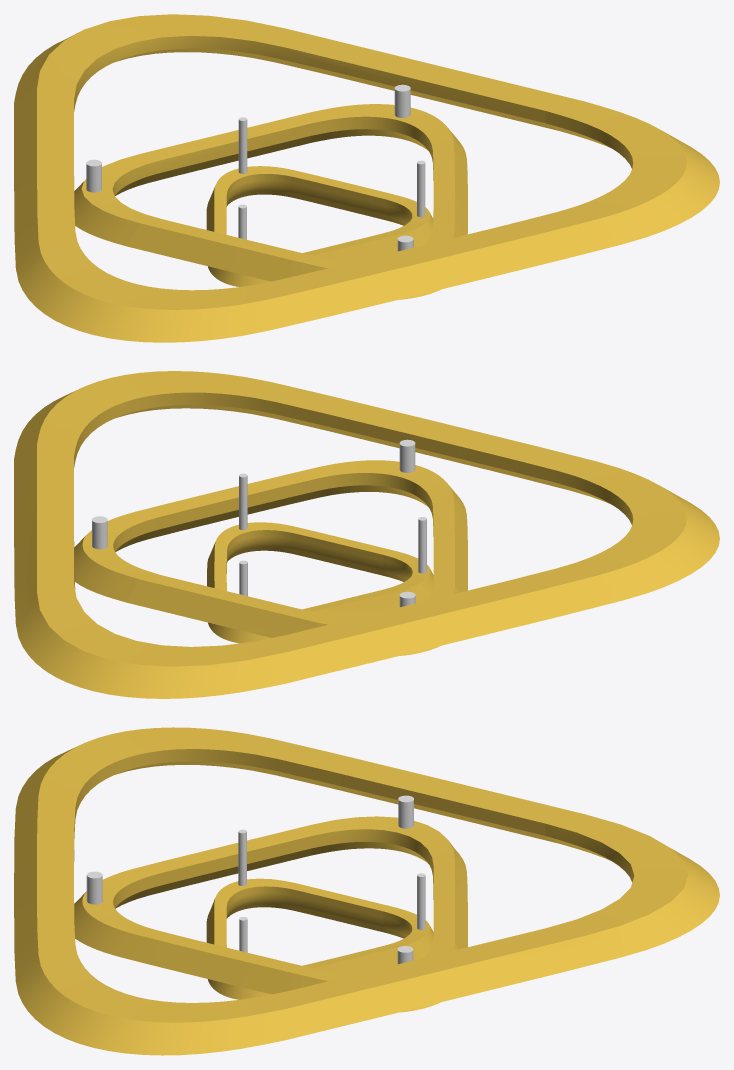
Rendered from Sketchfab_2021_01_12_16_21_49.fbx.
The picture shows the model from 3 angles, top to bottom: view 1: azimuth 30°, elevation 25°; view 2: azimuth 150°, elevation 25°; view 3: azimuth 270°, elevation 25°; orthographic projection.
Parts seen in each view (by area): view 1: Ceiling light; view 2: Ceiling light; view 3: Ceiling light.
Boxes of the visible parts, x1,y1,x2,y2 form: Ceiling light: [14, 14, 719, 342]; Ceiling light: [14, 371, 719, 698]; Ceiling light: [14, 727, 719, 1055].
Size of the model in its own units: 148 by 16.51 by 138.
